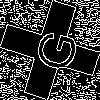G: (25, 25, 80, 75)
